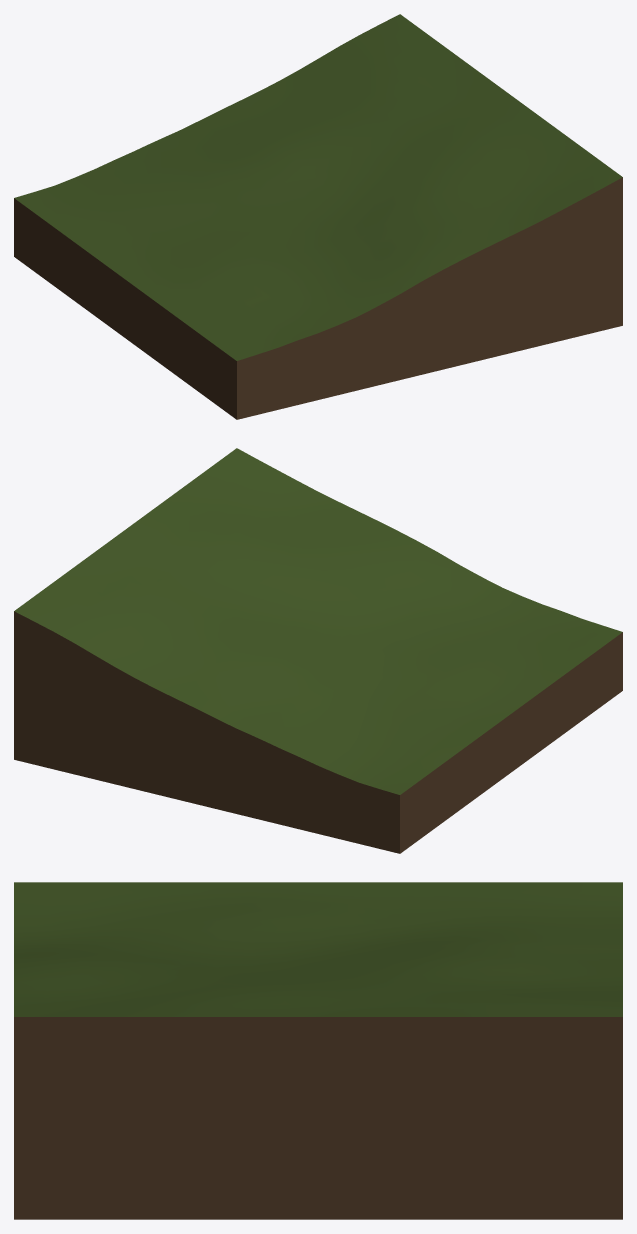
3 views of the same model, one above another, from view 1: azimuth 30°, elevation 25°; view 2: azimuth 150°, elevation 25°; view 3: azimuth 270°, elevation 25° (orthographic). The views are drawn at different scales.
Visible parts, largest first — view 1: d1go; view 2: d1go; view 3: d1go.
Part boxes in pixels (<box>): d1go: <box>14,14,622,419</box>; d1go: <box>14,448,622,853</box>; d1go: <box>14,882,622,1219</box>.
Size of the model in its own units: 9 by 3.31 by 9.
